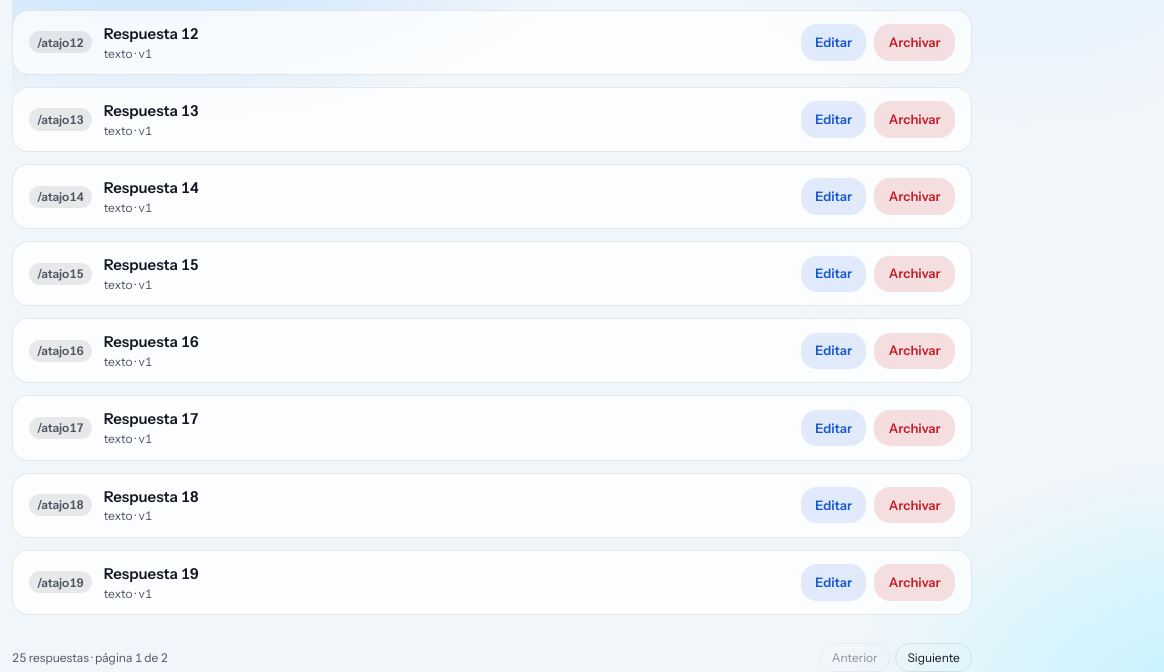
Test: Respuestas rápidas · buscar, contar y paginar › a partir de 20 se parte en páginas
(page scrolled)
Expected: the text "25 respuestas · página 1 de 2" is shown, [12,649,168,666]
Expected: the text "Respuesta 20" is not shown
Click the button "Siguiente".
click(934, 657)  # box [895,643,972,671]
(page scrolled)
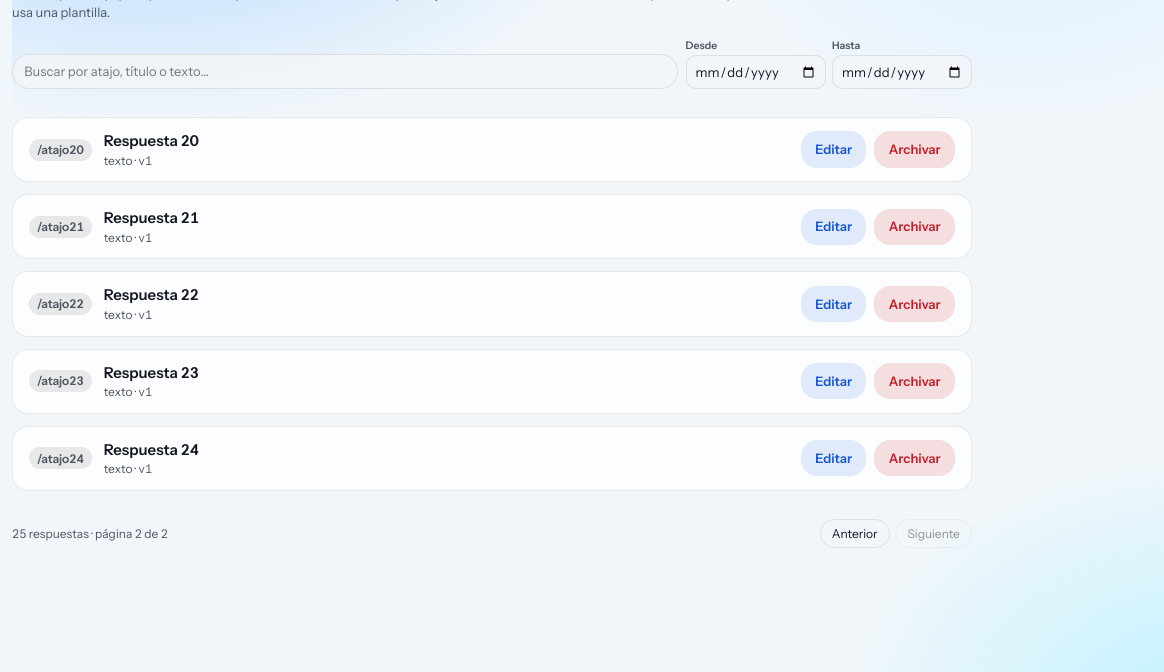
Expected: the text "Respuesta 20" is shown, [104,131,199,150]
